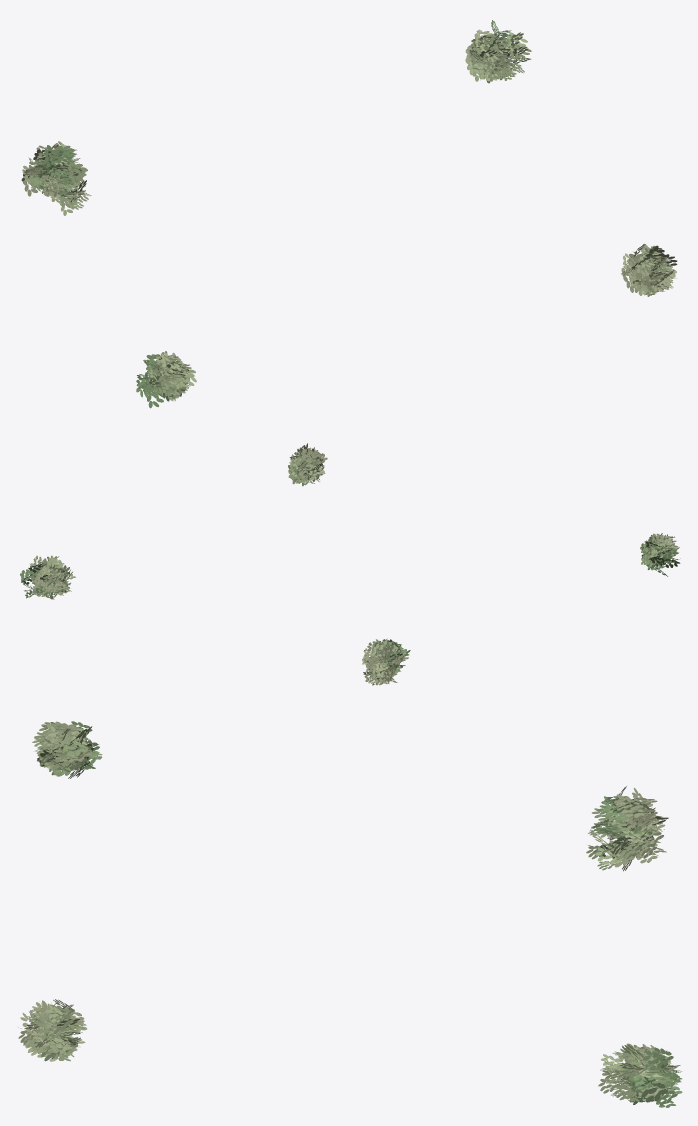
The model's file is campus-tree-4_-3-far.glb.
3 renders of one model, top to bottom at view 1: azimuth 30°, elevation 25°; view 2: azimuth 150°, elevation 25°; view 3: azimuth 270°, elevation 25°, orthographic. The views are drawn at different scales.
Visible parts, largest first — view 1: Campus leaf canopy; view 2: Campus leaf canopy; view 3: Campus leaf canopy.
Boxes of the visible parts, x1,y1,x2,y2 form: Campus leaf canopy: [21, 20, 677, 408]; Campus leaf canopy: [20, 443, 680, 685]; Campus leaf canopy: [18, 721, 682, 1107].
Size of the model in its own units: 60.3 by 6.65 by 46.66.
1 material, 1 textured.
